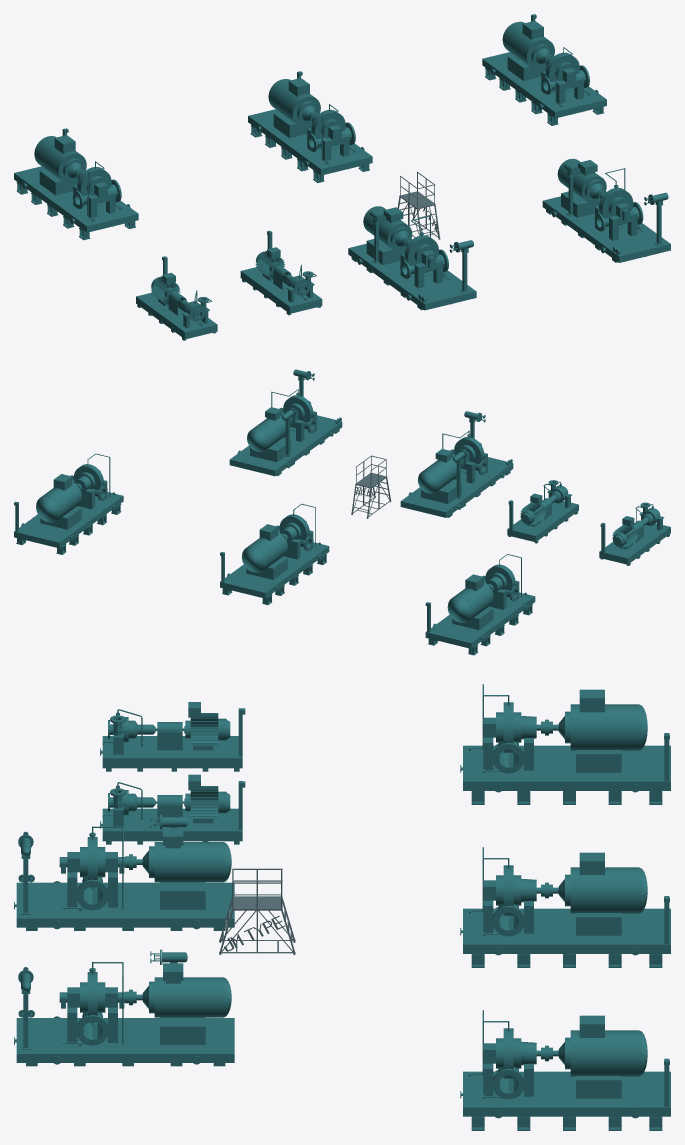
File: Zone_P2_Eqp_Process_Pumps_level1.fbx
The picture shows the model from 3 angles, top to bottom: view 1: azimuth 30°, elevation 25°; view 2: azimuth 150°, elevation 25°; view 3: azimuth 270°, elevation 25°; orthographic projection. The views are drawn at different scales.
Visible parts, largest first — view 1: EQP_Process_04, EQP_Process_03, EQP_Process_07, EQP_Process_05, EQP_Process_06, EQP_Process_02, EQP_Process_01, EQP_Process_maintenance_plateforme_01; view 2: EQP_Process_07, EQP_Process_05, EQP_Process_06, EQP_Process_03, EQP_Process_04, EQP_Process_02, EQP_Process_01, EQP_Process_maintenance_plateforme_01; view 3: EQP_Process_04, EQP_Process_03, EQP_Process_07, EQP_Process_05, EQP_Process_06, EQP_Process_01, EQP_Process_02, EQP_Process_maintenance_plateforme_01.
Part boxes in pixels (x1,y1,x2,y2): EQP_Process_04: (542, 158, 670, 262); EQP_Process_03: (348, 206, 476, 310); EQP_Process_07: (482, 14, 606, 125); EQP_Process_05: (14, 128, 138, 240); EQP_Process_06: (248, 71, 372, 182); EQP_Process_02: (240, 230, 322, 315); EQP_Process_01: (136, 256, 217, 340); EQP_Process_maintenance_plateforme_01: (397, 171, 440, 239); EQP_Process_07: (14, 453, 123, 554); EQP_Process_05: (425, 554, 535, 655); EQP_Process_06: (220, 503, 329, 604); EQP_Process_03: (400, 411, 513, 517); EQP_Process_04: (229, 369, 342, 476); EQP_Process_02: (507, 480, 578, 543); EQP_Process_01: (599, 502, 670, 565); EQP_Process_maintenance_plateforme_01: (351, 455, 391, 518); EQP_Process_04: (14, 949, 234, 1066); EQP_Process_03: (14, 814, 234, 930); EQP_Process_07: (460, 1010, 670, 1130); EQP_Process_05: (460, 684, 670, 804); EQP_Process_06: (460, 847, 670, 967); EQP_Process_01: (100, 702, 245, 771); EQP_Process_02: (100, 774, 245, 844); EQP_Process_maintenance_plateforme_01: (219, 868, 295, 954).
Size of the model in its own units: 1788 by 198 by 1295.
